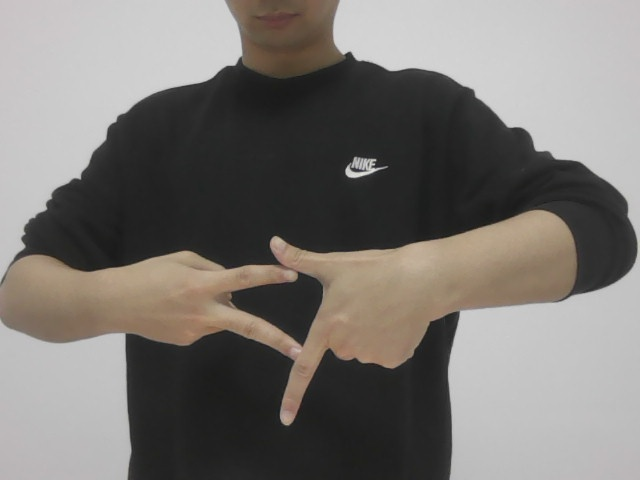introduce: (130, 223, 447, 430)
